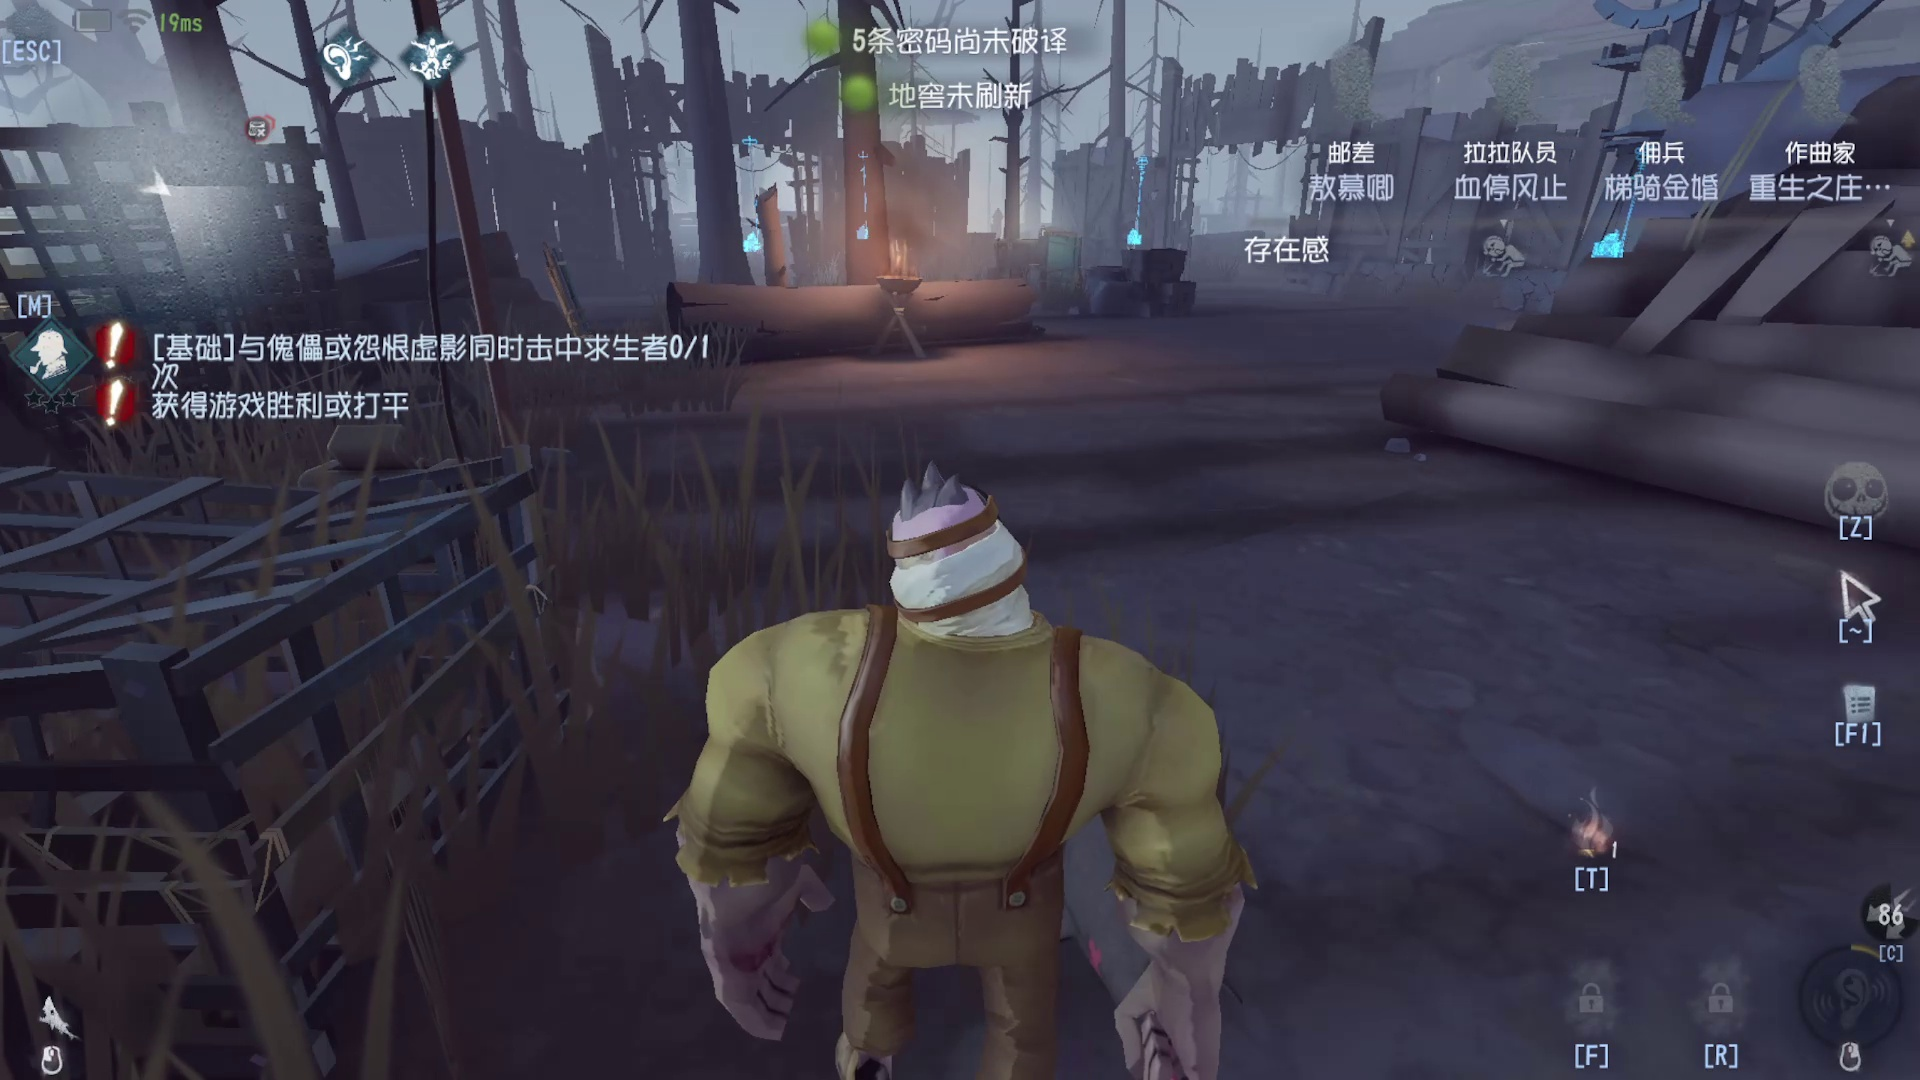密码机: (1104, 128, 1172, 305), (725, 104, 790, 264), (1592, 119, 1662, 262), (840, 135, 897, 258)
木板: (524, 236, 625, 386), (1022, 204, 1091, 297)
